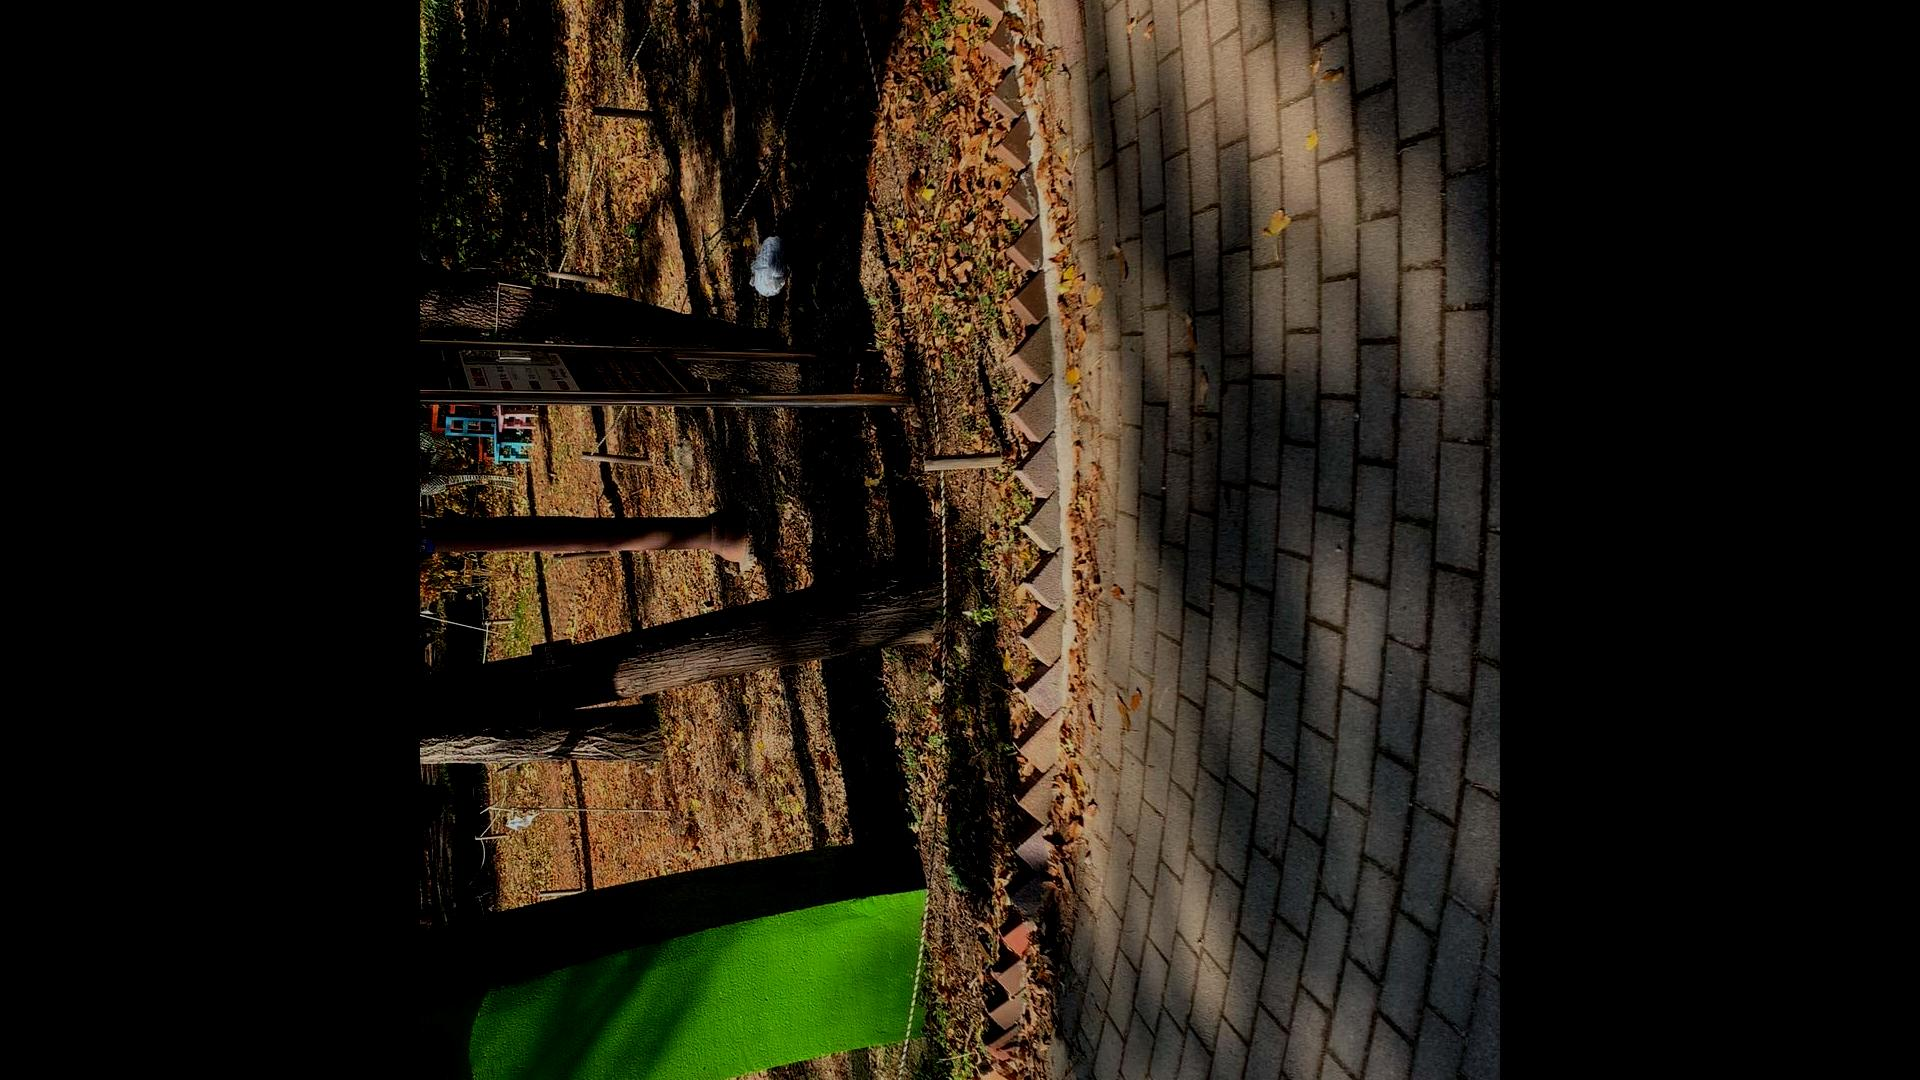white_bag: (742, 231, 793, 301)
